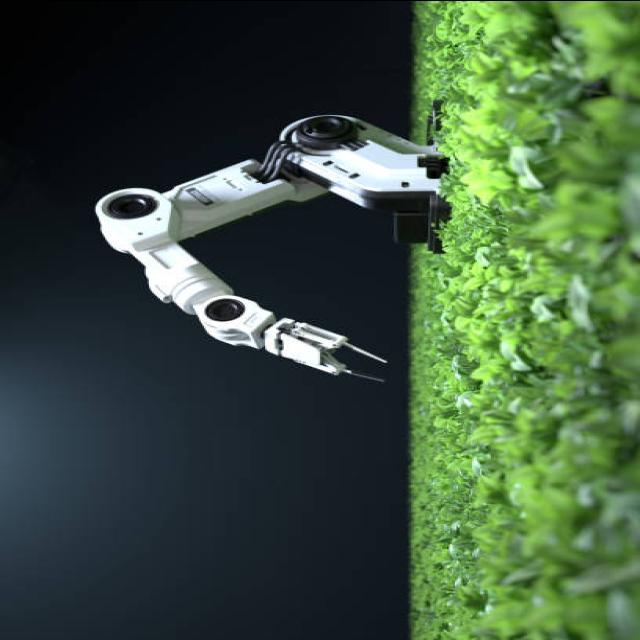Robotic-arm: (92, 106, 466, 384)
